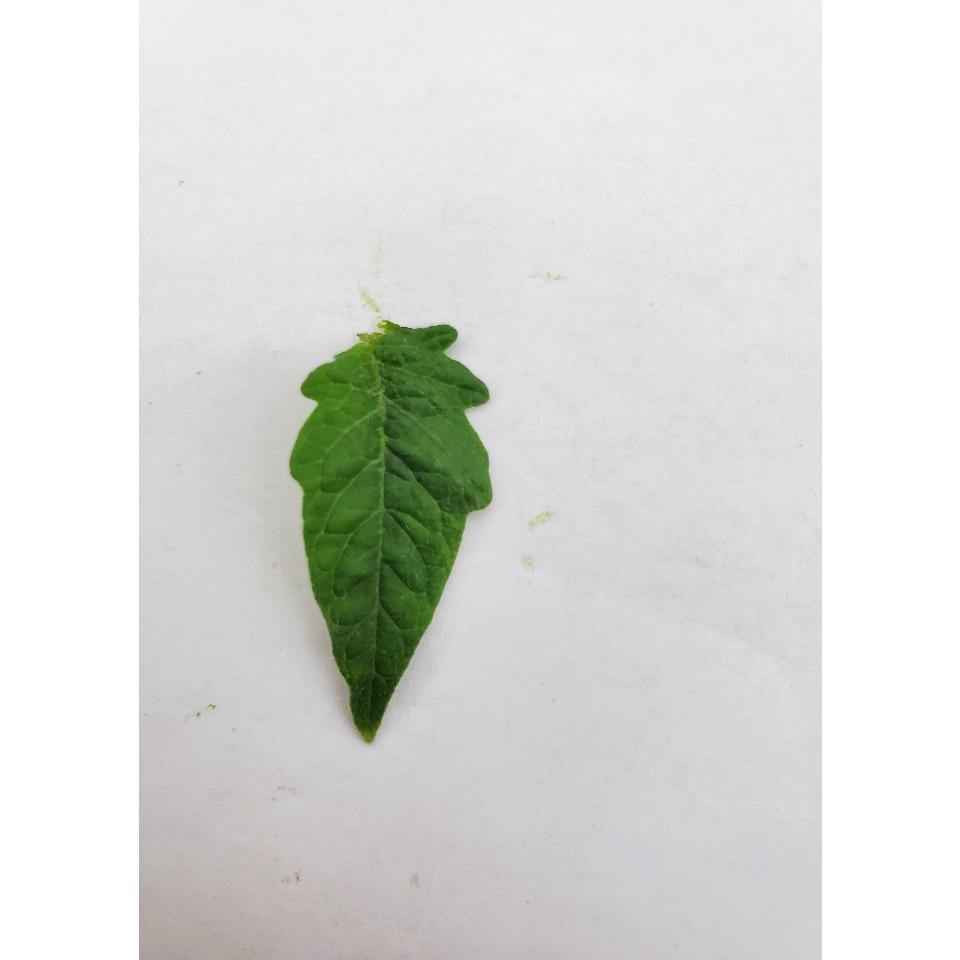tomato_leaves: (287, 321, 496, 757)
